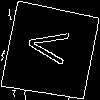V: (25, 25, 79, 68)
